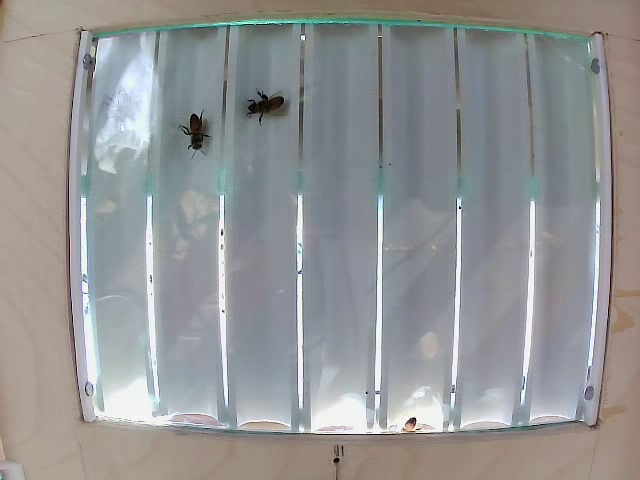bee: (180, 105, 212, 163), (247, 84, 293, 123)
